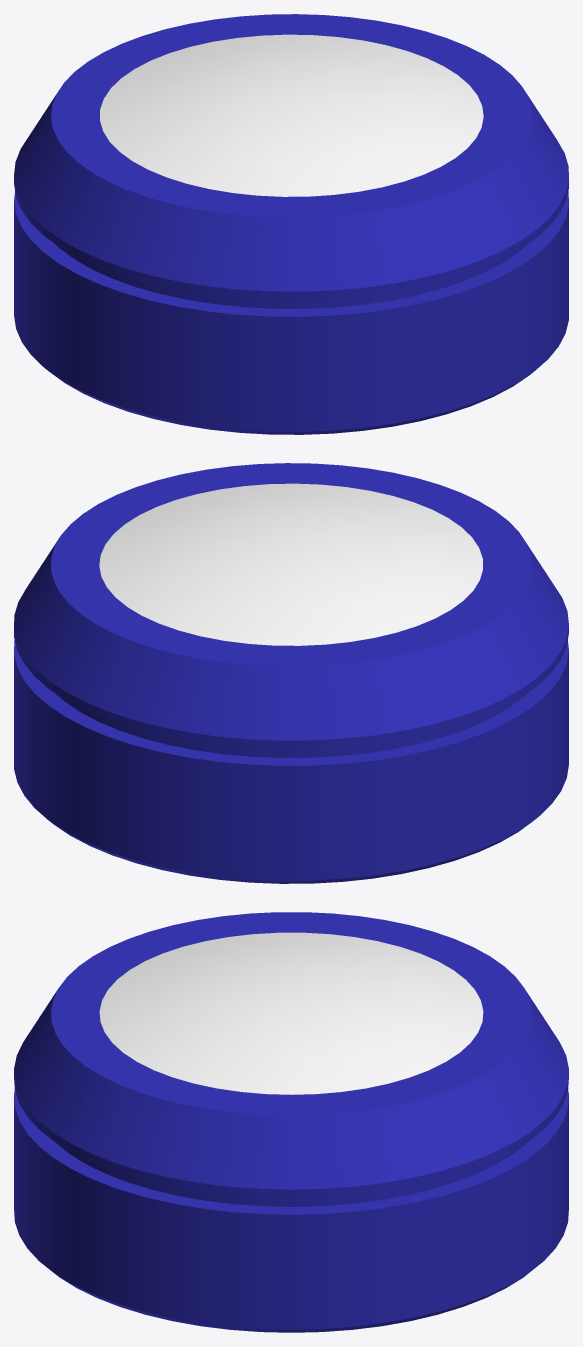
3 views of the same model, one above another, from view 1: azimuth 30°, elevation 25°; view 2: azimuth 150°, elevation 25°; view 3: azimuth 270°, elevation 25° (orthographic).
Parts seen in each view (by area): view 1: housing, face; view 2: housing, face; view 3: housing, face.
Boxes of the visible parts, <box> form: housing: <box>14,14,568,434</box>; face: <box>100,34,483,196</box>; housing: <box>14,463,568,883</box>; face: <box>99,483,482,645</box>; housing: <box>14,912,568,1332</box>; face: <box>99,932,483,1094</box>.
Size of the model in its own units: 0.06 by 0.0272 by 0.06.
